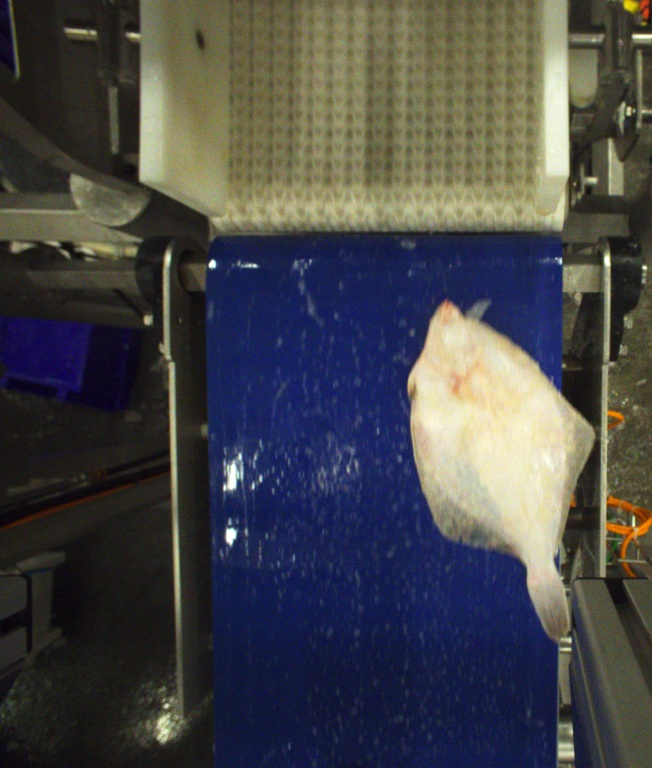PLE: (403, 299, 595, 642)
